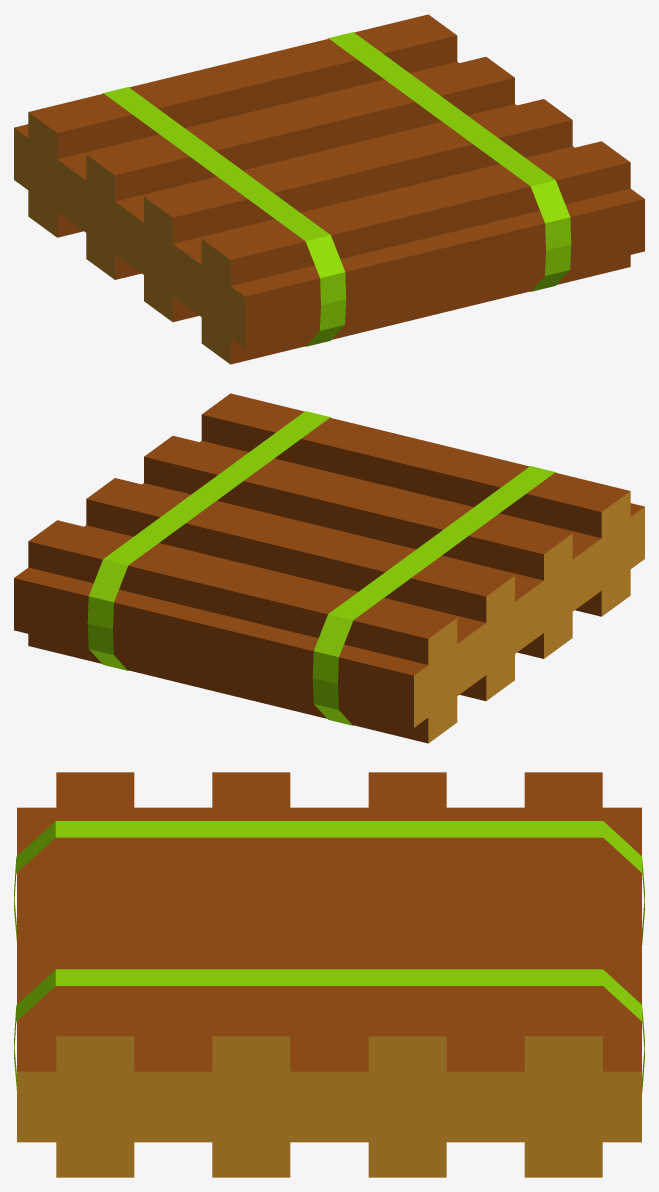
File: raft.glb
3 renders of one model, top to bottom at view 1: azimuth 30°, elevation 25°; view 2: azimuth 150°, elevation 25°; view 3: azimuth 270°, elevation 25°, orthographic. The views are drawn at different scales.
Visible parts, largest first — view 1: Plane.001; view 2: Plane.001; view 3: Plane.001.
Boxes of the visible parts, left/top/right/bottom form: Plane.001: left=14, top=14, right=644, bottom=364; Plane.001: left=14, top=393, right=644, bottom=743; Plane.001: left=14, top=772, right=644, bottom=1177.
Size of the model in its own units: 1.6 by 0.404 by 1.62.
